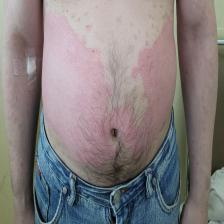Psoriasis vulgaris: (43, 11, 115, 171), (118, 16, 174, 147)
